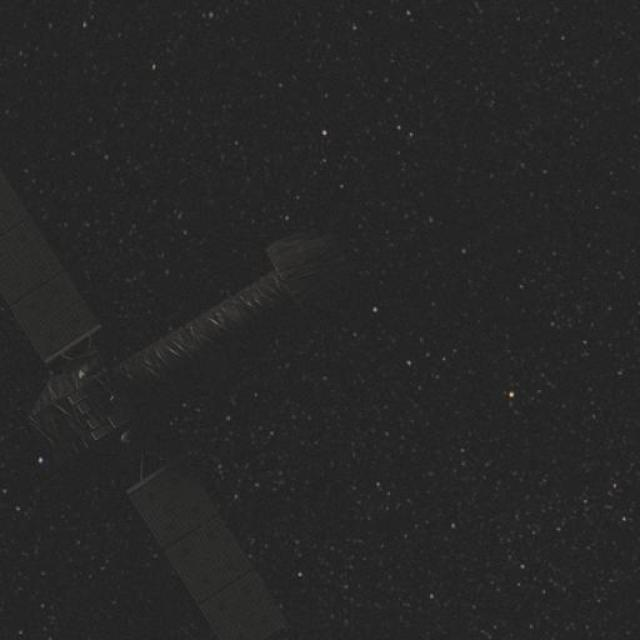xmm_newton: (0, 205, 330, 523)
